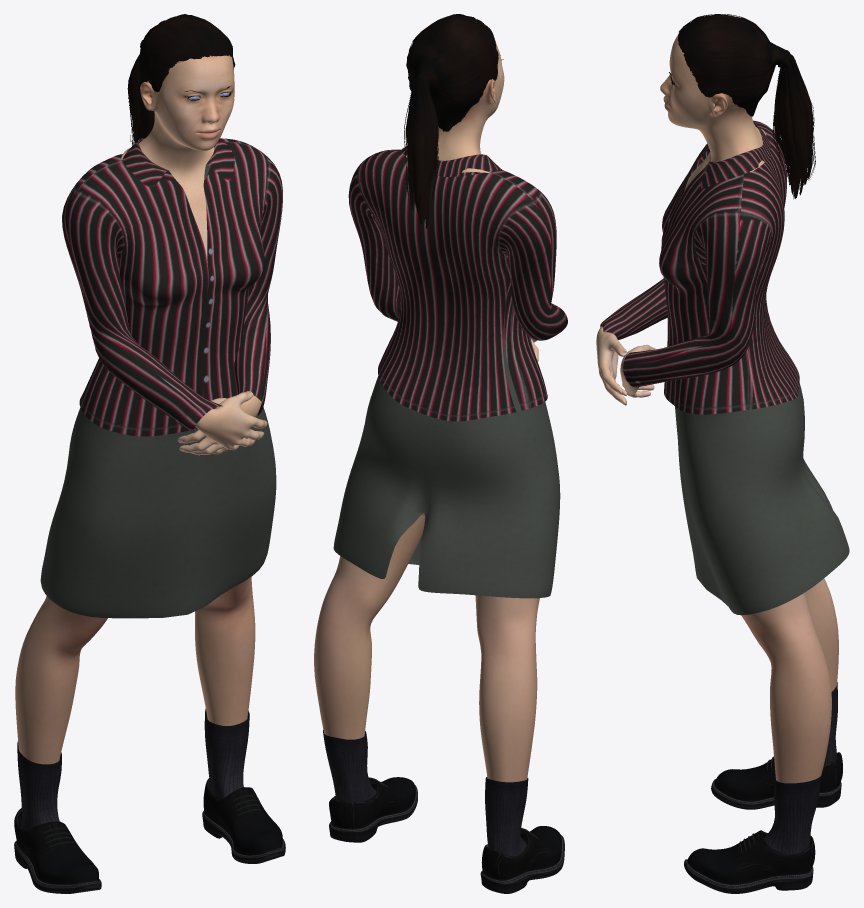
File: shopkeeper-woman.glb
3 renders of one model, left to right at view 1: azimuth 30°, elevation 25°; view 2: azimuth 150°, elevation 25°; view 3: azimuth 270°, elevation 25°, orthographic. The views are drawn at different scales.
Parts seen in each view (by area): view 1: receptionist_body.female_elegantsuit01, receptionist_body, receptionist_body.shoes03, receptionist_body.ponytail01; view 2: receptionist_body.female_elegantsuit01, receptionist_body, receptionist_body.shoes03, receptionist_body.ponytail01; view 3: receptionist_body.female_elegantsuit01, receptionist_body, receptionist_body.shoes03, receptionist_body.ponytail01.
Part boxes in pixels (left/top/right/bottom): receptionist_body.female_elegantsuit01: left=40, top=138, right=282, bottom=618; receptionist_body: left=15, top=55, right=267, bottom=764; receptionist_body.shoes03: left=14, top=708, right=285, bottom=893; receptionist_body.ponytail01: left=127, top=14, right=235, bottom=145; receptionist_body.female_elegantsuit01: left=333, top=146, right=567, bottom=598; receptionist_body: left=314, top=41, right=539, bottom=782; receptionist_body.shoes03: left=323, top=730, right=564, bottom=893; receptionist_body.ponytail01: left=404, top=14, right=498, bottom=228; receptionist_body.female_elegantsuit01: left=600, top=120, right=849, bottom=615; receptionist_body: left=596, top=35, right=838, bottom=783; receptionist_body.shoes03: left=684, top=682, right=842, bottom=893; receptionist_body.ponytail01: left=678, top=14, right=815, bottom=199.
Size of the model in its own units: 0.4351 by 1.51 by 0.4176.
8 materials, 8 textured.
